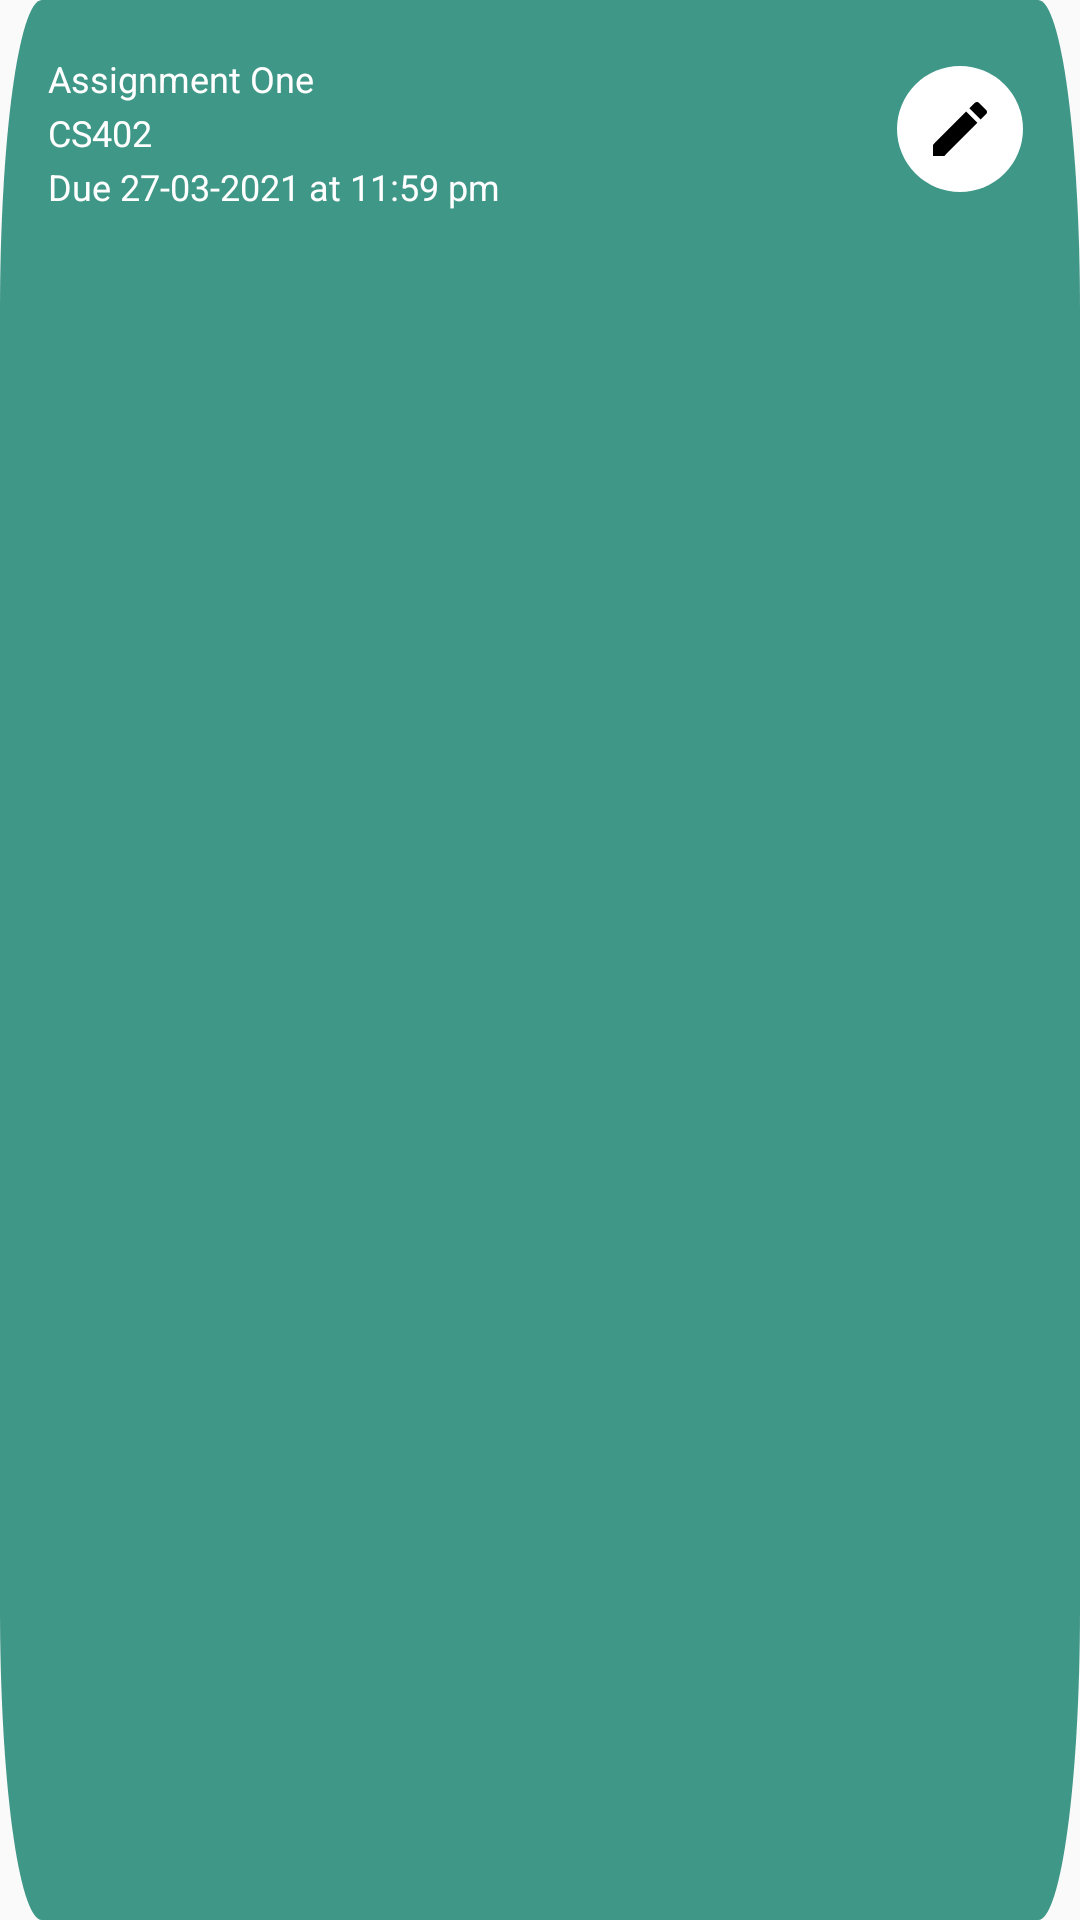

Named icons in this screenshot (1080x1920) and their bounding boxes, (x1, y1, x2, y2):
deadline edit: (897, 66, 1023, 192)
